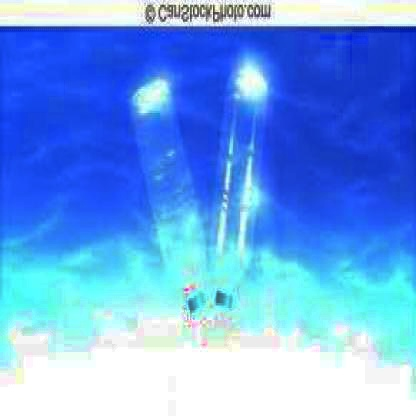pbottle: (120, 70, 215, 315), (207, 48, 272, 327)
